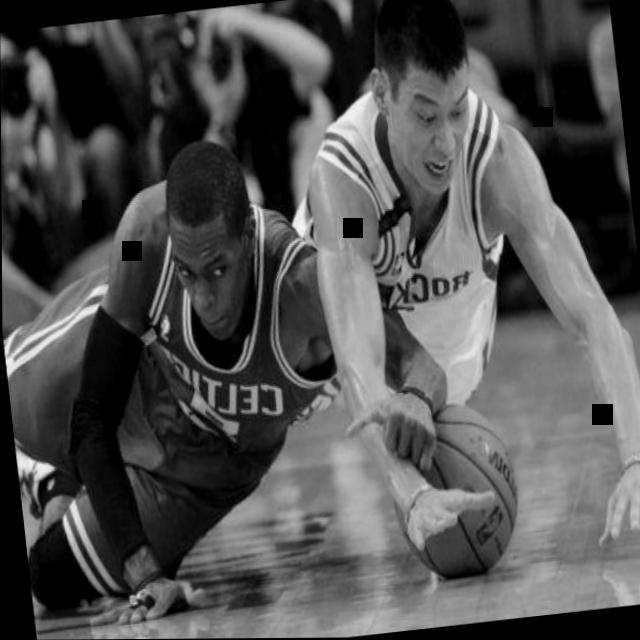Fall-Detected: (263, 0, 640, 589)
